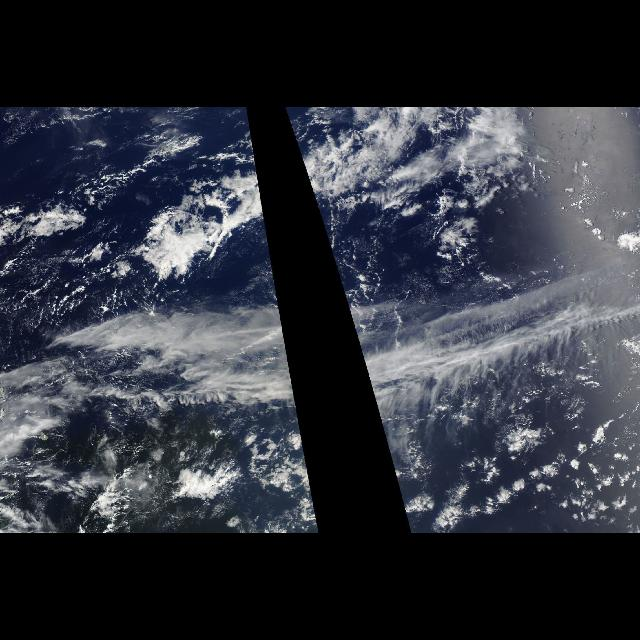Fish: (8, 108, 280, 308), (284, 108, 538, 308)
Gravel: (388, 412, 636, 534)
